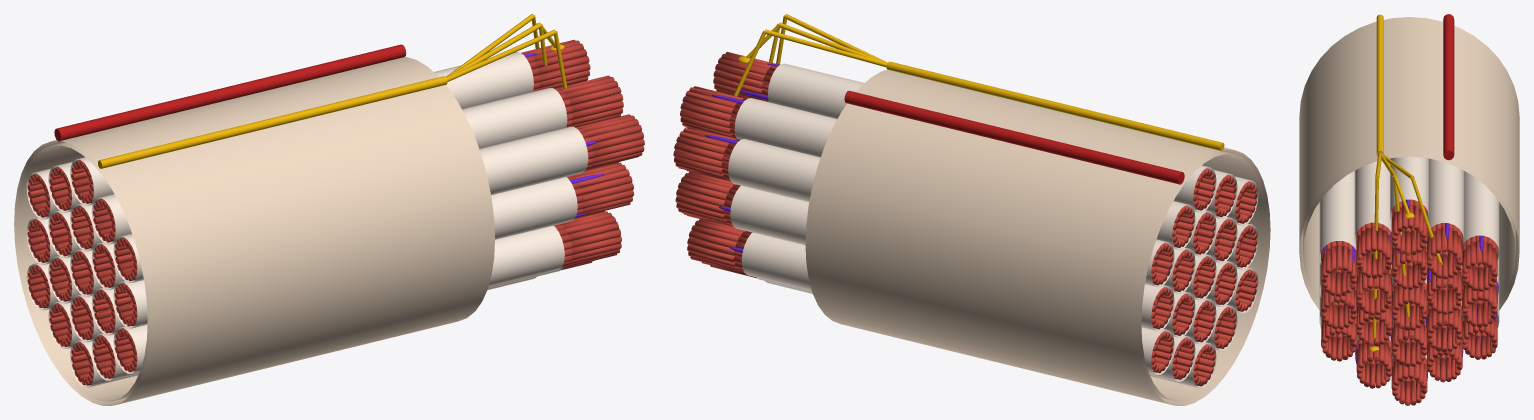
The model's file is fascicle.glb.
The picture shows the model from 3 angles, left to right: view 1: azimuth 30°, elevation 25°; view 2: azimuth 150°, elevation 25°; view 3: azimuth 270°, elevation 25°; orthographic projection. The views are drawn at different scales.
Parts seen in each view (by area): view 1: Perimysium, Endomysium, Blood vessel, Nerve, Fibers.012, Fibers.013, Fibers.014, Fibers.011, Fibers.010, Motor neuron branches, Fibers.015, Fibers.016 (+12 smaller); view 2: Perimysium, Endomysium, Blood vessel, Nerve, Fibers.008, Fibers.019, Fibers.018, Fibers.009, Fibers.010, Motor neuron branches, Fibers.016, Fibers.017 (+12 smaller); view 3: Perimysium, Endomysium, Fibers.008, Fibers.012, Fibers.011, Fibers.009, Blood vessel, Fibers.010, Motor neuron branches, Fibers.015, Fibers.001, Fibers.016 (+12 smaller).
Part boxes in pixels (x1=…): Perimysium: x1=14, y1=57, x2=494, y2=405; Endomysium: x1=26, y1=52, x2=588, y2=387; Blood vessel: x1=54, y1=44, x2=406, y2=141; Nerve: x1=98, y1=76, x2=447, y2=168; Fibers.012: x1=114, y1=114, x2=644, y2=281; Fibers.013: x1=114, y1=162, x2=634, y2=326; Fibers.014: x1=114, y1=211, x2=621, y2=372; Fibers.011: x1=92, y1=75, x2=623, y2=242; Fibers.010: x1=71, y1=39, x2=590, y2=203; Motor neuron branches: x1=446, y1=14, x2=567, y2=88; Fibers.015: x1=93, y1=216, x2=621, y2=378; Fibers.016: x1=71, y1=261, x2=592, y2=385; Perimysium: x1=805, y1=69, x2=1270, y2=405; Endomysium: x1=728, y1=63, x2=1258, y2=388; Blood vessel: x1=844, y1=90, x2=1184, y2=184; Nerve: x1=886, y1=61, x2=1224, y2=151; Fibers.008: x1=673, y1=127, x2=1173, y2=285; Fibers.019: x1=675, y1=172, x2=1173, y2=329; Fibers.018: x1=687, y1=218, x2=1173, y2=373; Fibers.009: x1=680, y1=86, x2=1194, y2=247; Fibers.010: x1=713, y1=52, x2=1215, y2=210; Motor neuron branches: x1=733, y1=14, x2=887, y2=96; Fibers.016: x1=710, y1=265, x2=1215, y2=386; Fibers.017: x1=701, y1=262, x2=1194, y2=379; Perimysium: x1=1299, y1=17, x2=1519, y2=310; Endomysium: x1=1319, y1=156, x2=1499, y2=359; Fibers.008: x1=1462, y1=235, x2=1497, y2=291; Fibers.012: x1=1321, y1=241, x2=1356, y2=296; Fibers.011: x1=1356, y1=222, x2=1392, y2=278; Fibers.009: x1=1426, y1=223, x2=1462, y2=279; Blood vessel: x1=1443, y1=14, x2=1454, y2=160; Fibers.010: x1=1391, y1=199, x2=1427, y2=255; Motor neuron branches: x1=1369, y1=152, x2=1448, y2=352; Fibers.015: x1=1355, y1=339, x2=1391, y2=388; Fibers.001: x1=1391, y1=281, x2=1427, y2=330; Fibers.016: x1=1391, y1=351, x2=1427, y2=405.
Bounding box in the file's own units: 7.98 × 4.05 × 3.68.
